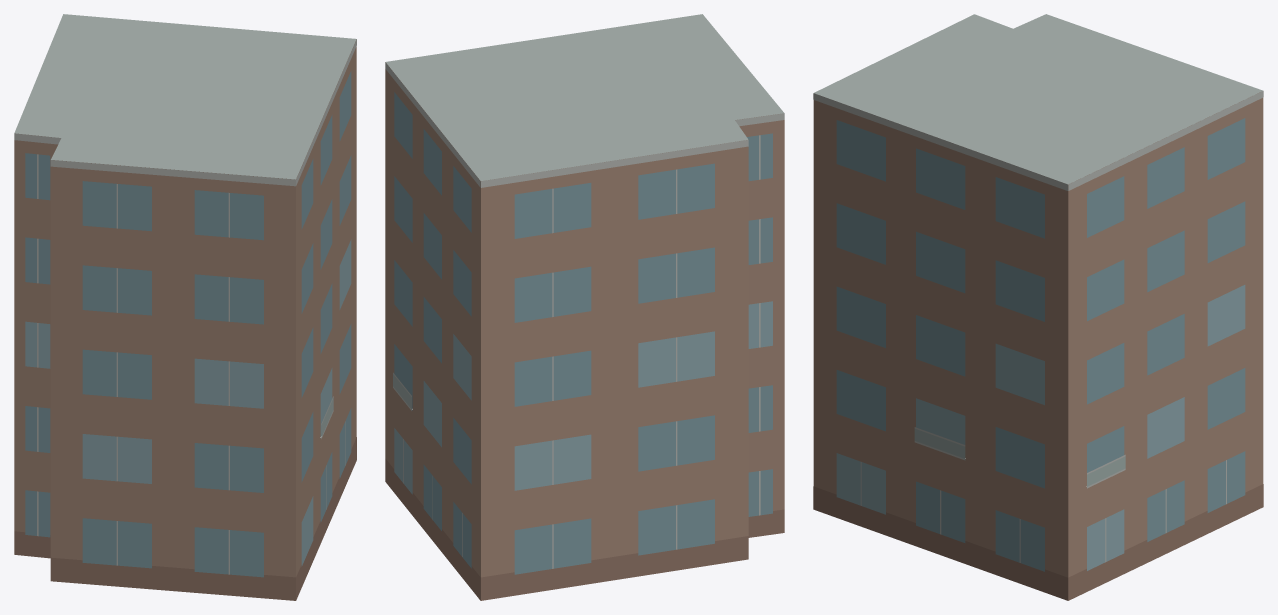
File: survey-upis-33019304.glb
3 views of the same model, side by side, from view 1: azimuth 30°, elevation 25°; view 2: azimuth 150°, elevation 25°; view 3: azimuth 270°, elevation 25° (orthographic).
Visible parts, largest first — view 1: survey-upis-33019304.tmp; view 2: survey-upis-33019304.tmp; view 3: survey-upis-33019304.tmp.
Part boxes in pixels (x1,y1,x2,y2): survey-upis-33019304.tmp: [14, 14, 356, 600]; survey-upis-33019304.tmp: [385, 14, 784, 600]; survey-upis-33019304.tmp: [813, 14, 1263, 600].
Bounding box in the file's own units: 13.27 × 15.1 × 14.8.
